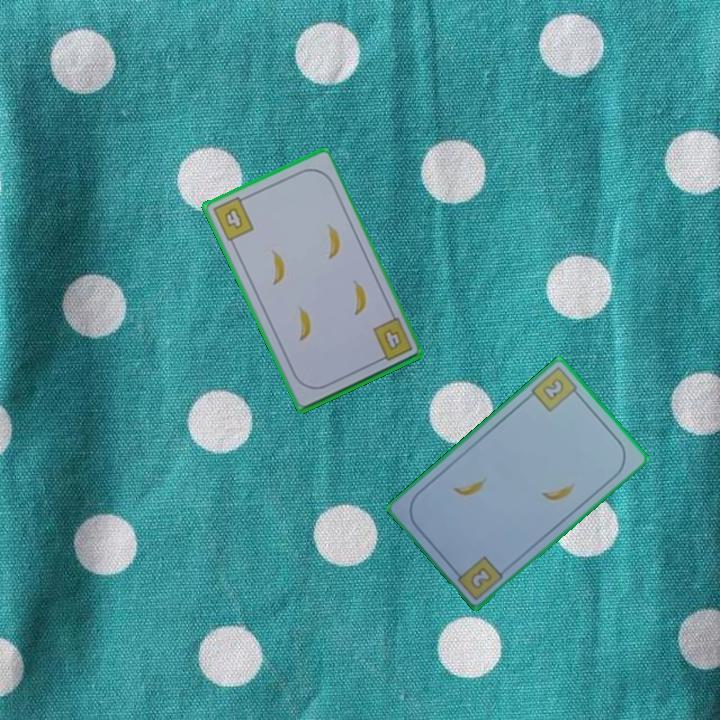2b: (527, 363, 584, 415), (467, 563, 495, 592)
4b: (209, 192, 257, 244), (369, 314, 415, 365)
